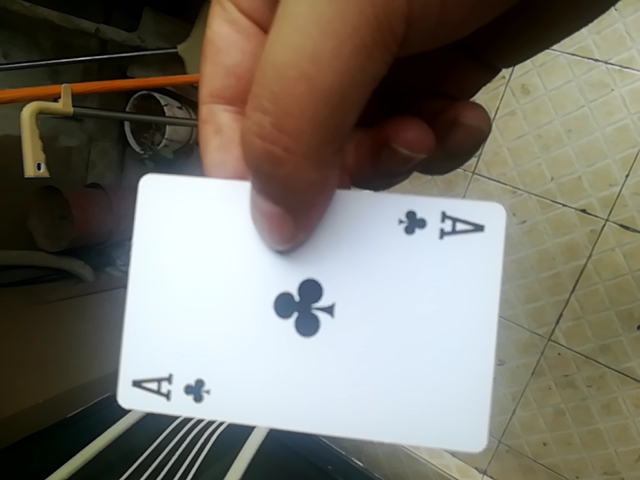mh a: (109, 173, 516, 454)
